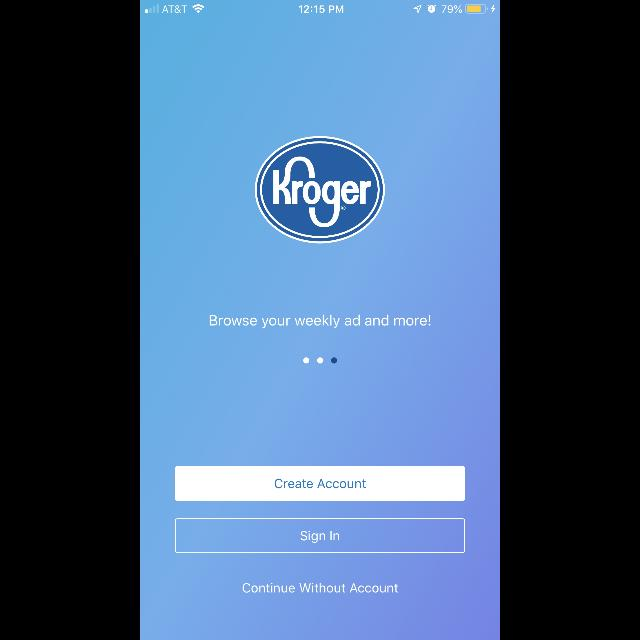image: (254, 136, 386, 244)
pageindicator: (303, 358, 337, 364)
text: (210, 315, 430, 329), (242, 583, 398, 593)
textbutton: (175, 518, 465, 554), (175, 466, 465, 500)
uppertaskbar: (140, 0, 500, 14)
